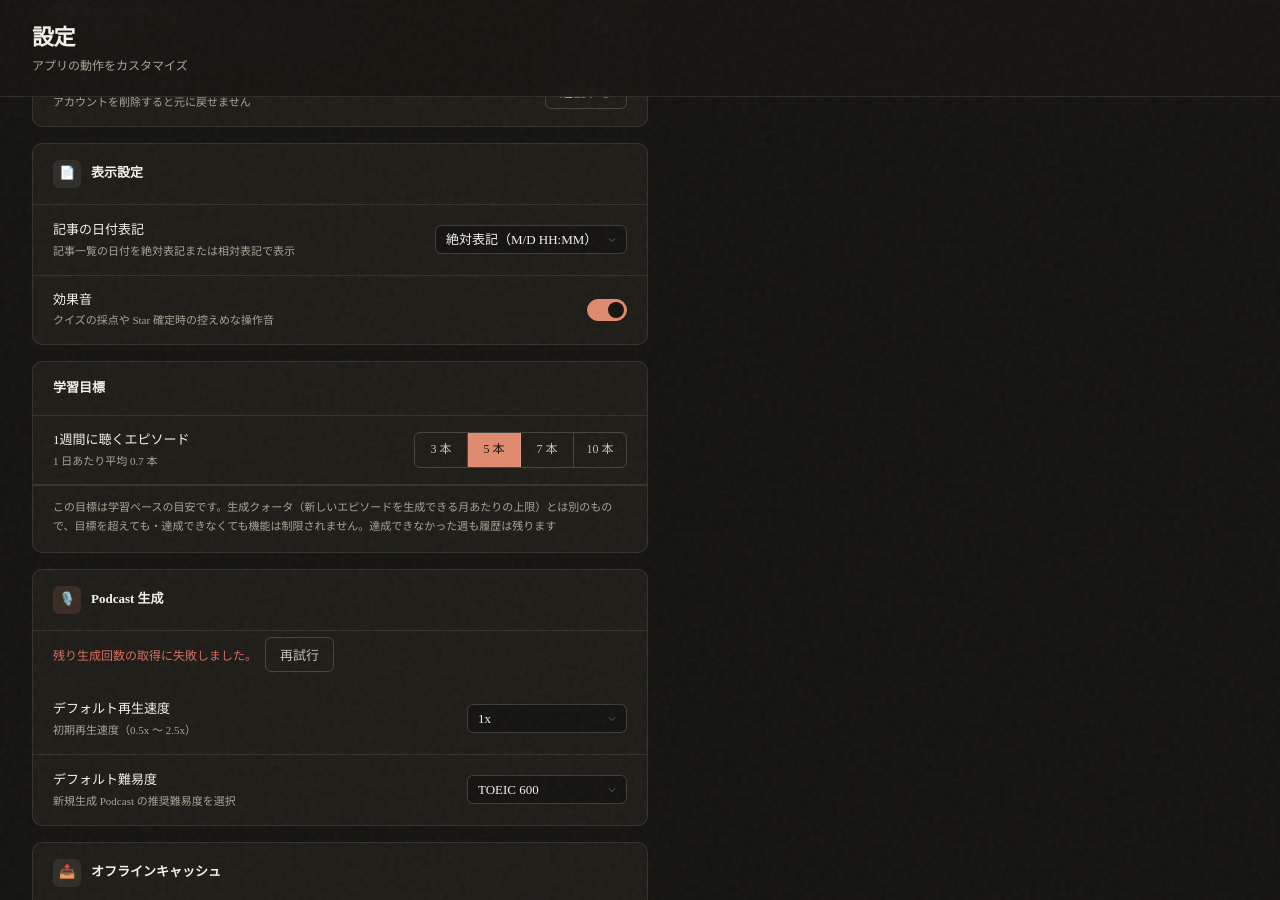
Scenario: SettingsPage — weekly learning goal (ADR-086) › loads 3/5/7/10 choices and saves only weekly_goal_episodes
This screenshot has width=1280, height=900.
(page scrolled)
Expected: the radio button labelled "10 本" is shown, top-left (586, 442), bottom-right (614, 456)
Expected: the radio button labelled "5 本" is checked, top-left (468, 433), bottom-right (521, 467)
Click the radio button labelled "7 本" at coordinates (548, 450), box top-left (521, 433), bottom-right (574, 467)
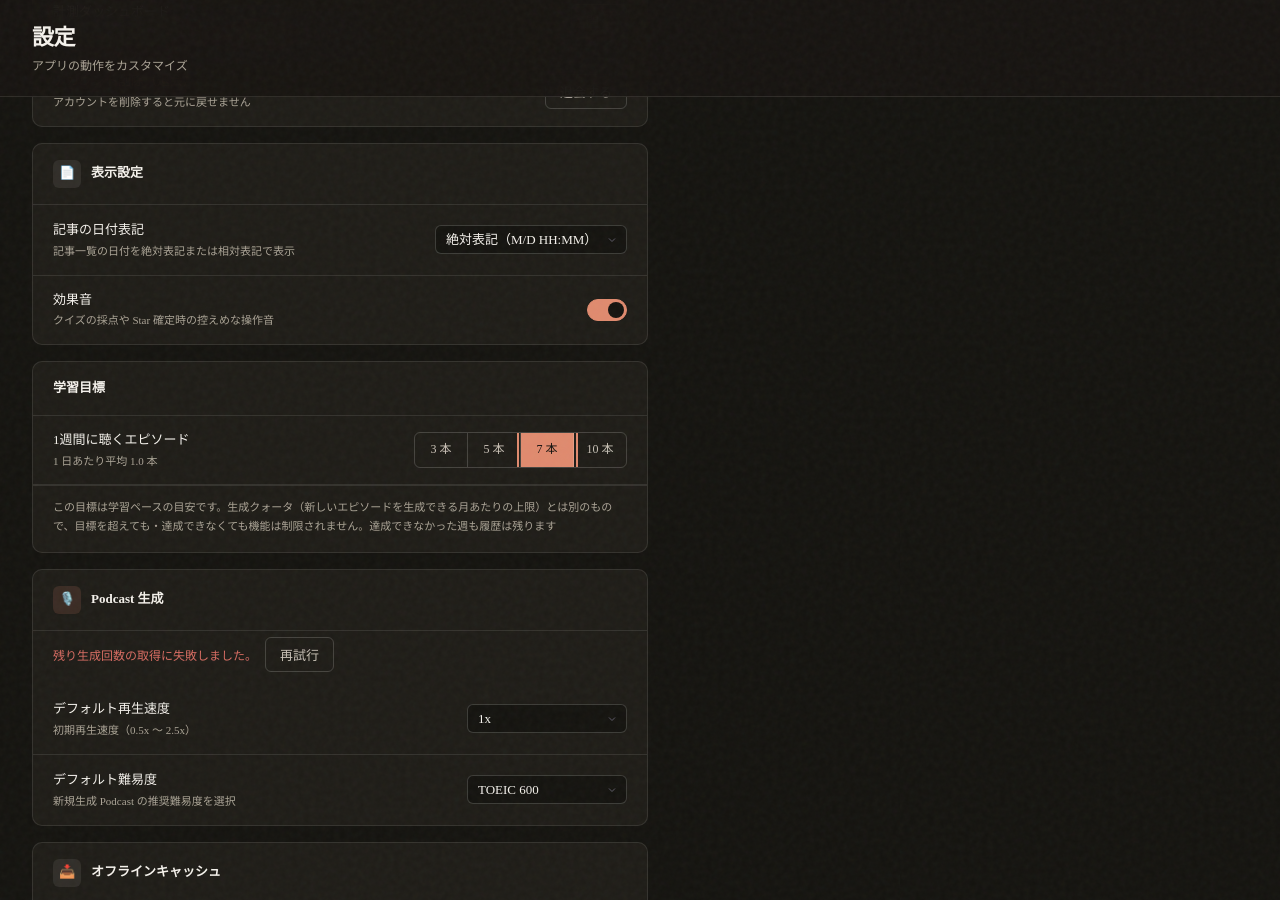
Now the text "1 日あたり平均 1.0 本" is shown, box top-left (53, 455), bottom-right (158, 467)
